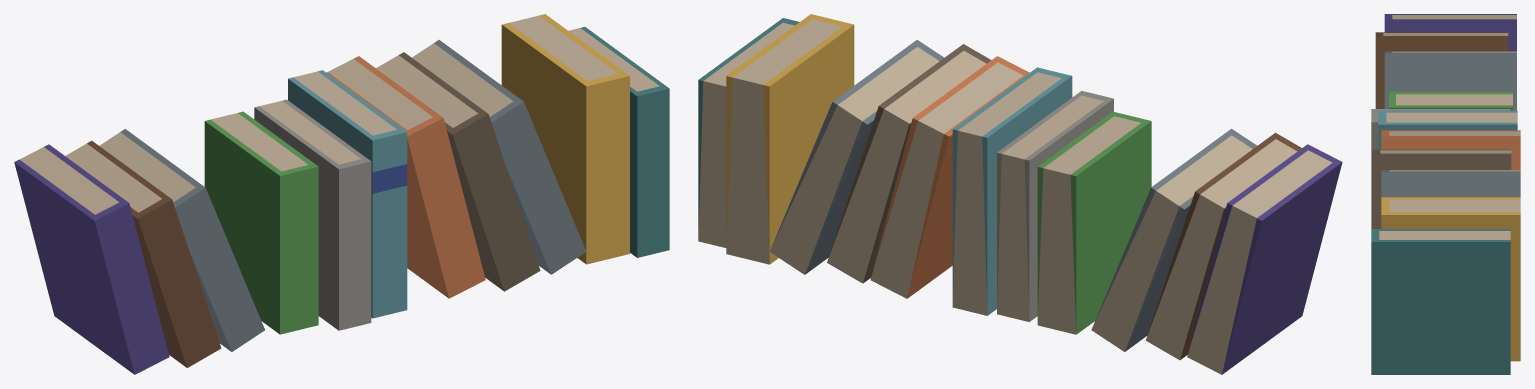
Rendered from SM_Prop_Book_Group_02.obj.
3 views of the same model, side by side, from view 1: azimuth 30°, elevation 25°; view 2: azimuth 150°, elevation 25°; view 3: azimuth 270°, elevation 25° (orthographic). The views are drawn at different scales.
Parts seen in each view (by area): view 1: SM_Prop_Book_Group_02_0; view 2: SM_Prop_Book_Group_02_0; view 3: SM_Prop_Book_Group_02_0.
Part boxes in pixels (x1,y1,x2,y2): SM_Prop_Book_Group_02_0: (14,14,669,374); SM_Prop_Book_Group_02_0: (698,14,1342,374); SM_Prop_Book_Group_02_0: (1371,14,1520,374).
Bounding box in the file's own units: 0.9825 × 0.3056 × 0.272.
1 material, 1 textured.
